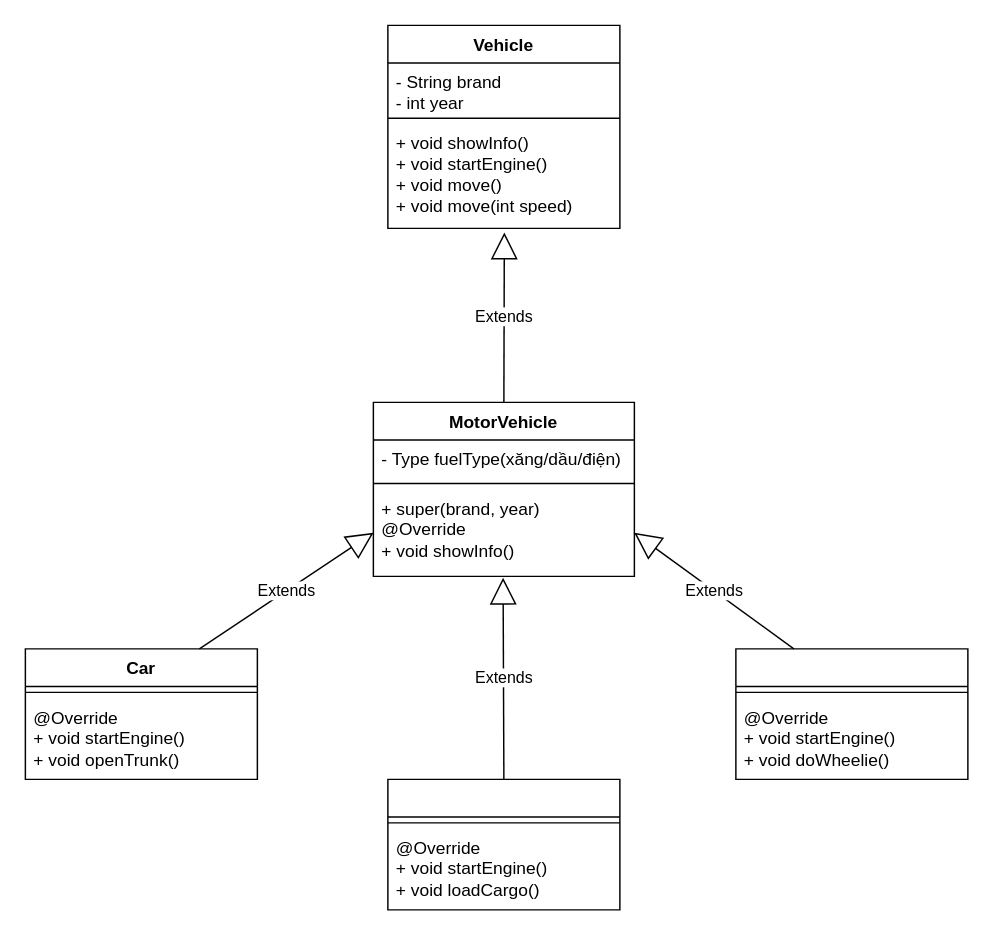
Some shapes in this 993 by 940 pixel diagram are drawn without their labels. The shapes that lost their labels are listed below. From the top down, each one's box as (x1, y1, x2, y2) in pixels, then its label:
(734, 647, 968, 779): Motorcycle
(386, 778, 620, 910): Truck
